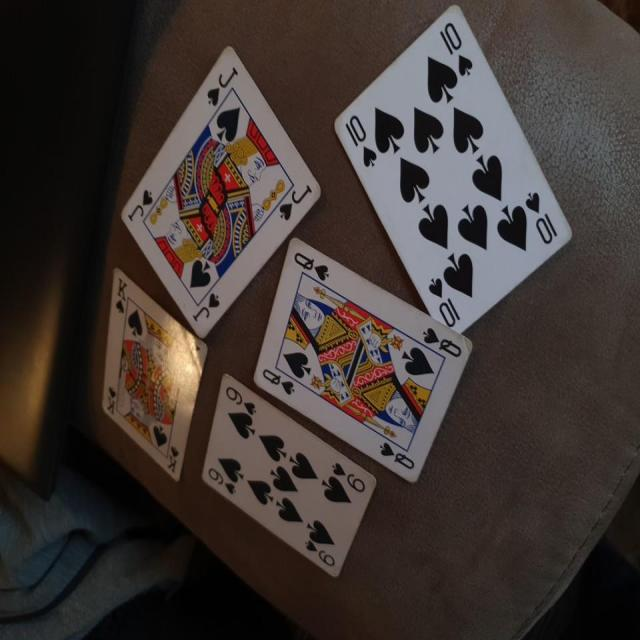10 Spades: (328, 1, 573, 334)
9 Spades: (200, 372, 385, 593)
J Spades: (113, 36, 324, 345)
K Spades: (101, 276, 209, 492)
Q Spades: (252, 238, 478, 478)
